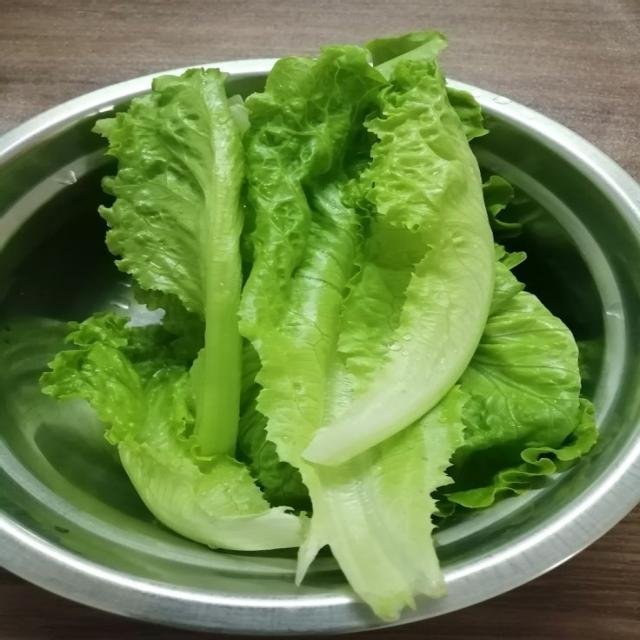lettuce: (41, 32, 595, 620), (241, 48, 494, 619), (42, 70, 301, 549), (305, 34, 493, 464), (41, 314, 302, 550), (96, 70, 244, 454)
